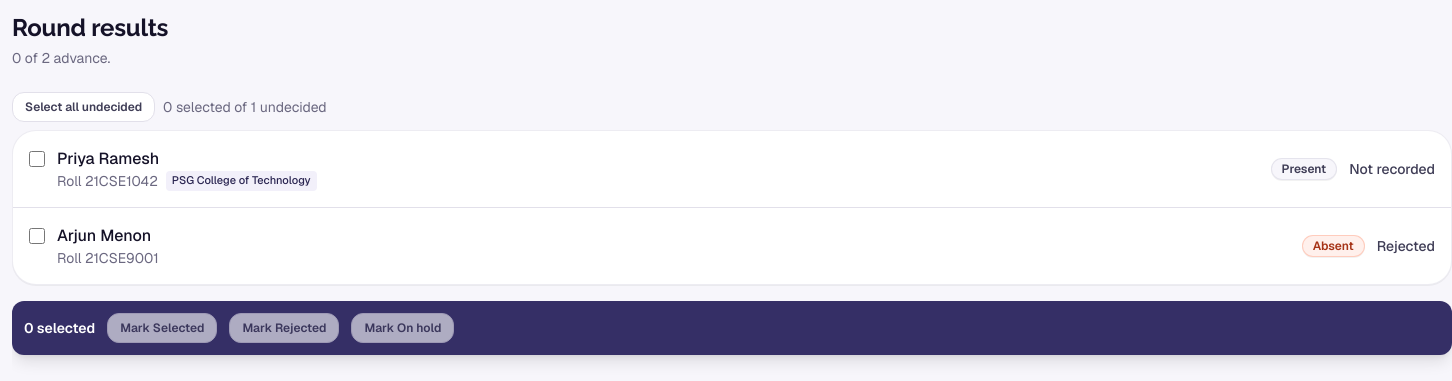
ResultsPage — bulk recording (M2, approved 2026-08-21) › select-all-undecided ticks exactly the rows without a result; Clear unticks
Click the button "Select all undecided" at (84,107), box [12, 92, 155, 122]
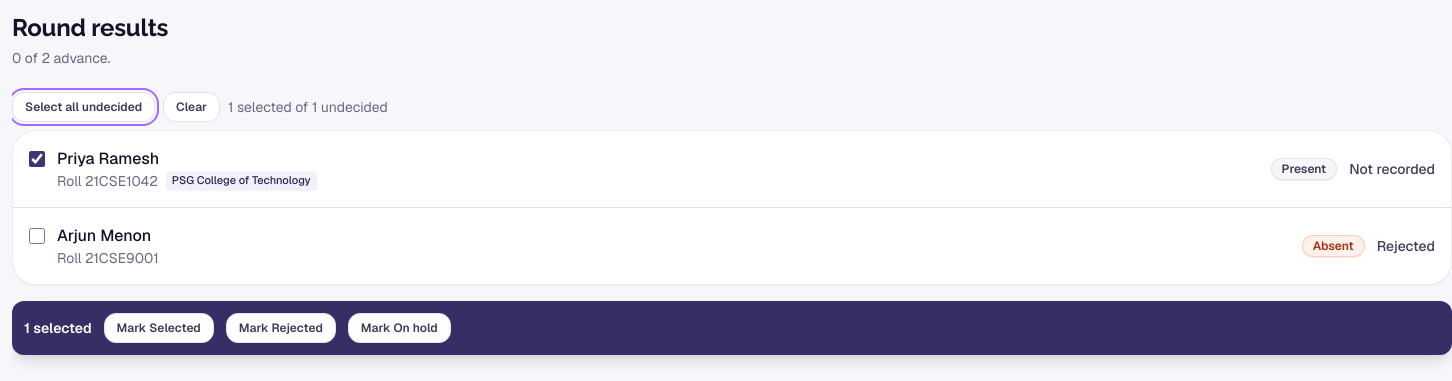
Expected: the checkbox named "arjun menon" is not checked, [29, 228, 45, 244]
Result: the checkbox named "priya ramesh" is checked at [29, 151, 45, 167]
Result: the text "1 selected of 1 undecided" is shown at [228, 97, 388, 117]
Click the button "Clear" at (192,107), box [163, 92, 220, 122]
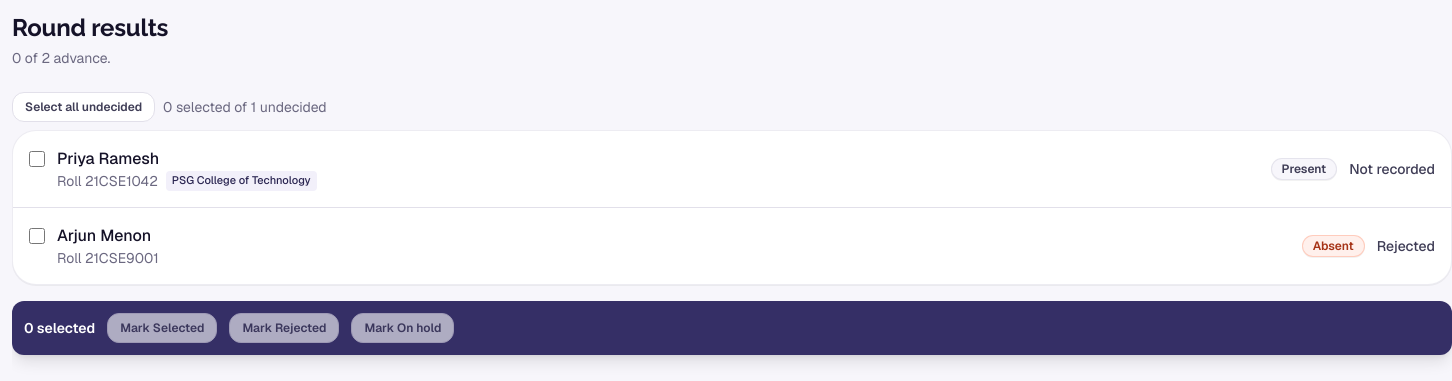
Result: the checkbox named "priya ramesh" is not checked at [29, 151, 45, 167]
